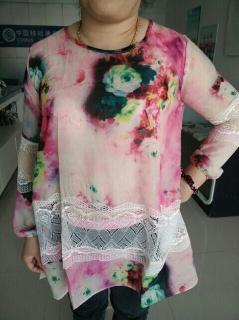long sleeve top: (12, 19, 239, 310)
trousers: (59, 219, 156, 319)
